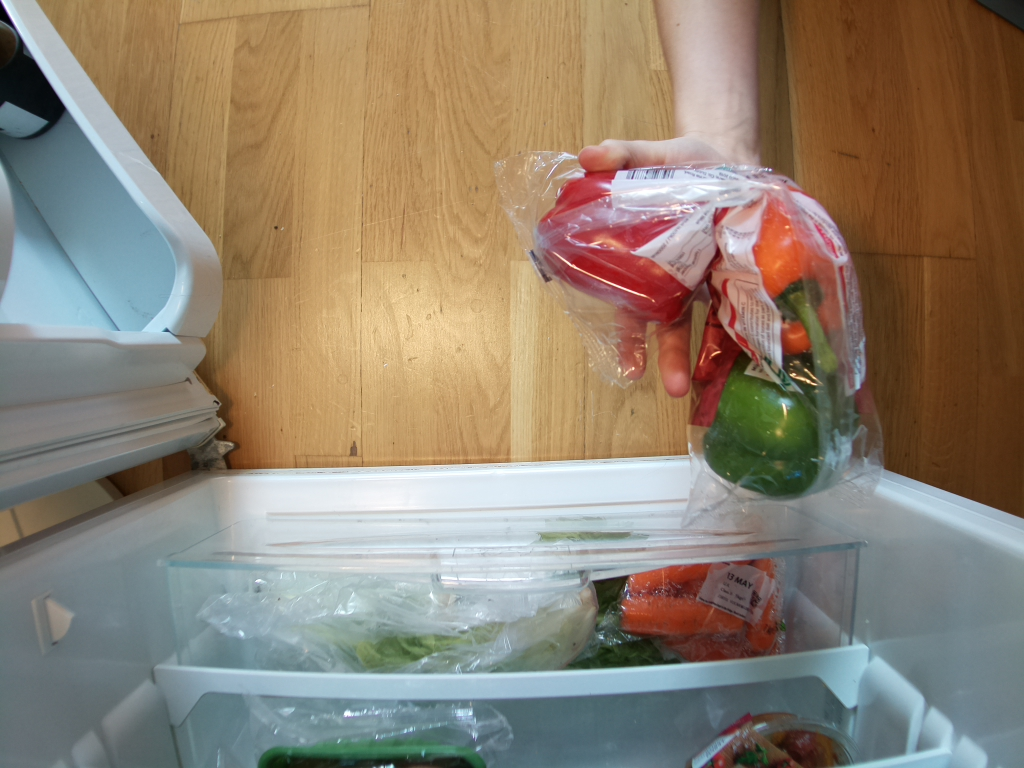pepper: (533, 150, 729, 324), (701, 345, 868, 500), (722, 192, 851, 379)
